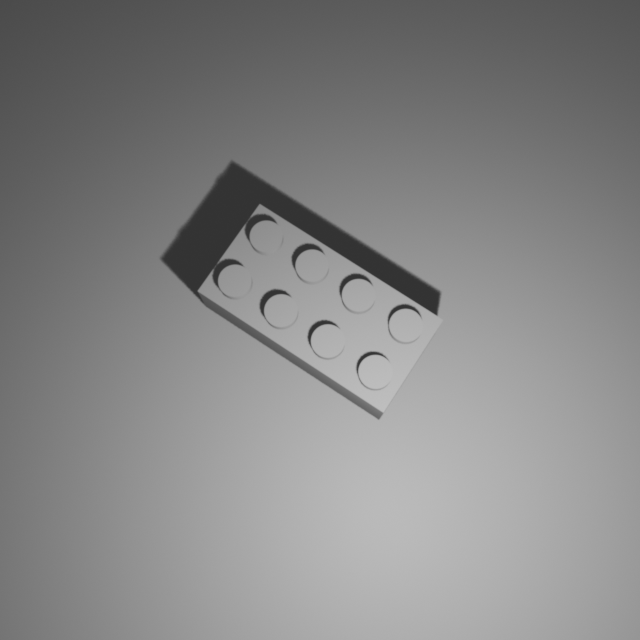lego_2x4: (196, 200, 445, 420)
